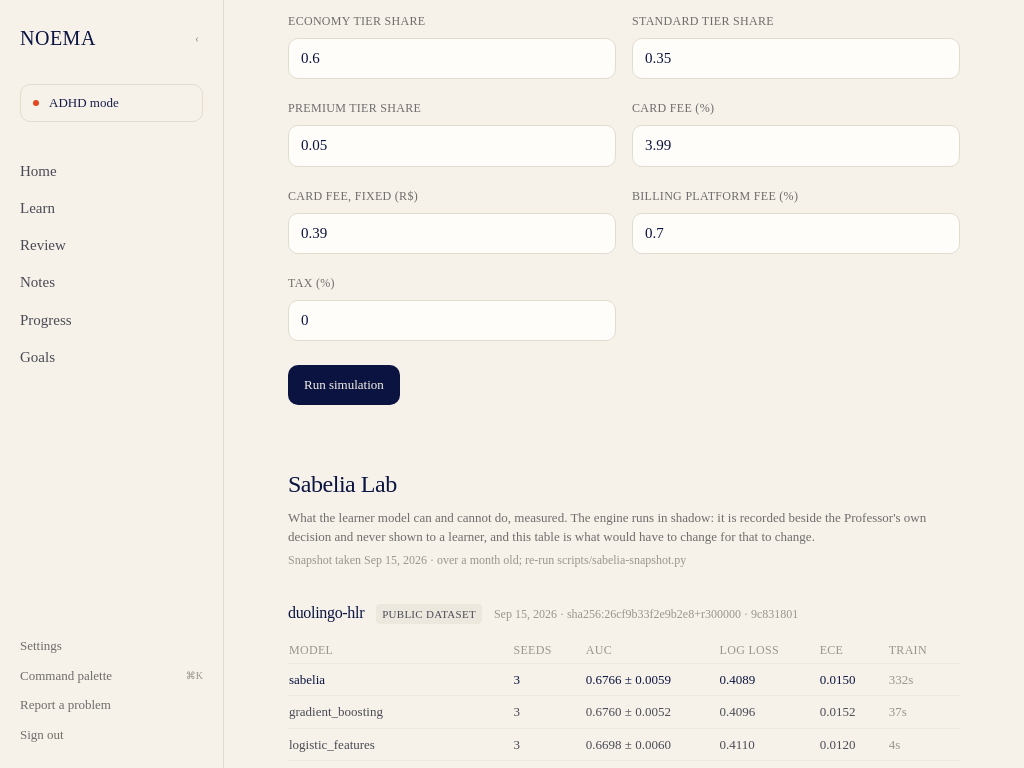
Test case: AdminPage › surfaces a simulator error instead of failing silently
The image size is (1024, 768).
(page scrolled)
Click the button "Run simulation".
click(344, 385)  # box x1=288 y1=365 x2=400 y2=405
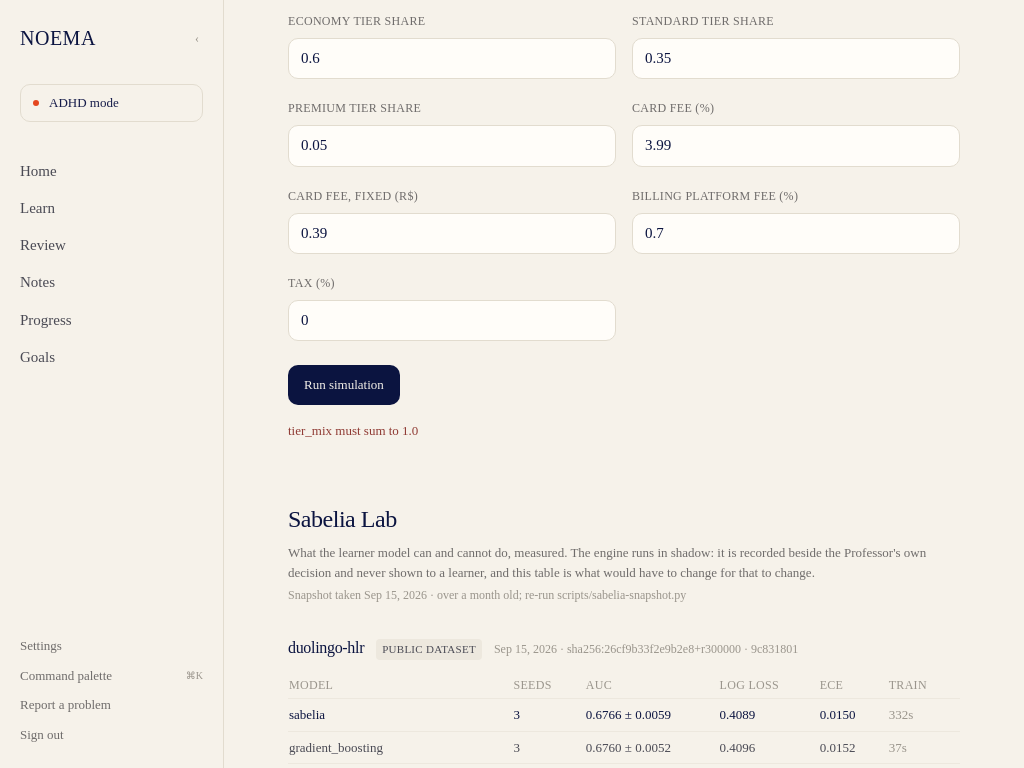
Check: the message reads "tier_mix must sum to 1.0", box x1=288 y1=423 x2=418 y2=438
